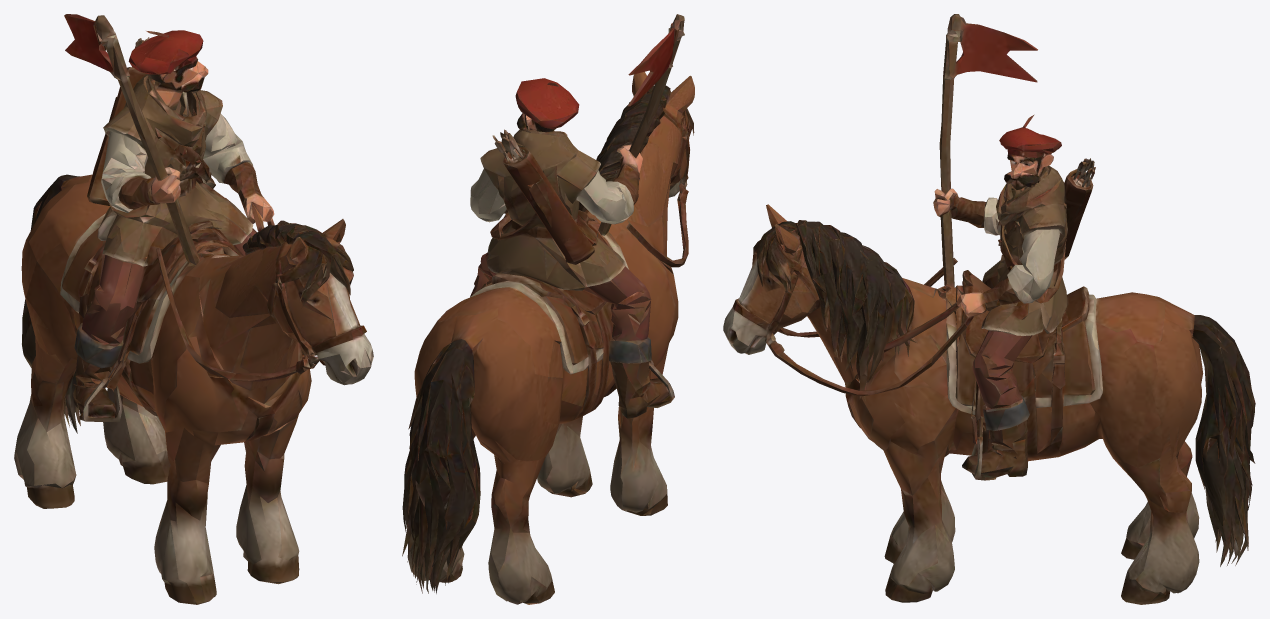
File: unit_scout.glb
3 views of the same model, side by side, from view 1: azimuth 30°, elevation 25°; view 2: azimuth 150°, elevation 25°; view 3: azimuth 270°, elevation 25° (orthographic). The views are drawn at different scales.
Visible parts, largest first — view 1: unit_scout; view 2: unit_scout; view 3: unit_scout.
Boxes of the visible parts, x1=… form: unit_scout: x1=14, y1=14, x2=373, y2=604; unit_scout: x1=402, y1=14, x2=694, y2=604; unit_scout: x1=723, y1=14, x2=1255, y2=604.
Bounding box in the file's own units: 1.08 × 2.67 × 2.5.
Materials: 1 (1 with a texture image).
